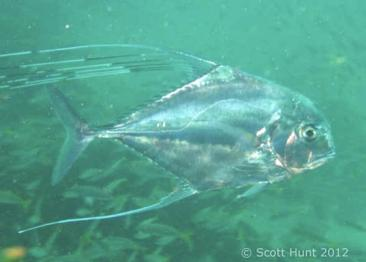Carangidae -Jacks-: (0, 41, 343, 231)
